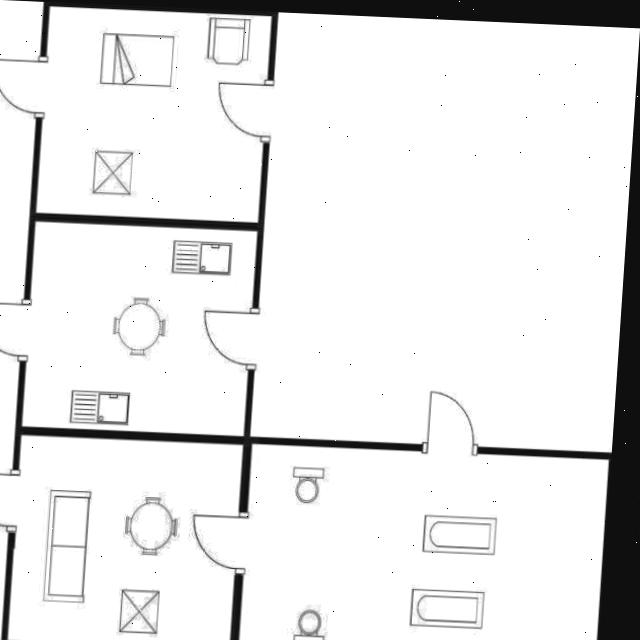room: (239, 444, 609, 640), (36, 6, 272, 223), (22, 221, 257, 437), (8, 435, 243, 640)
